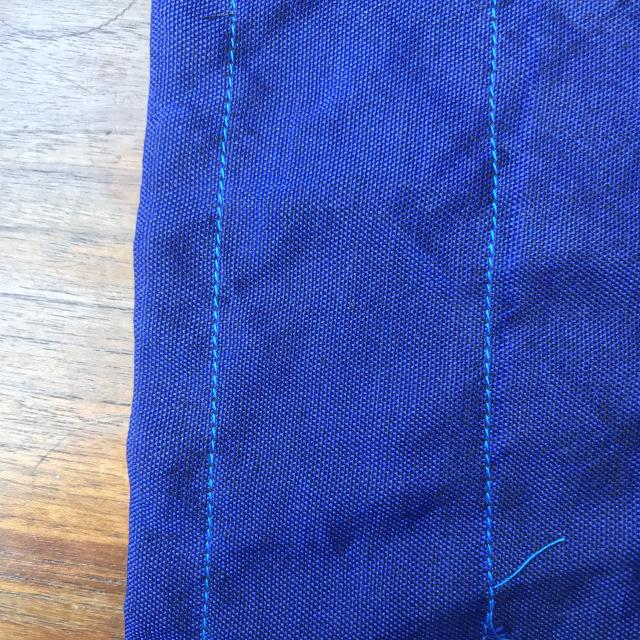good: (481, 181, 502, 478), (202, 146, 234, 309)
